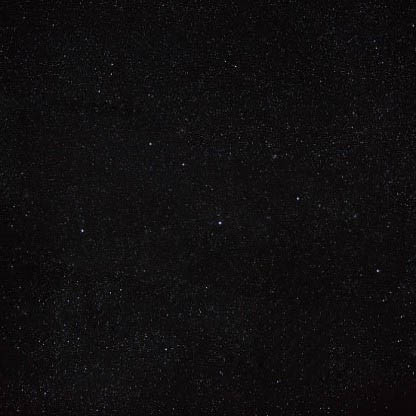Cassiopeia: (142, 137, 191, 174), (282, 185, 310, 218), (369, 253, 394, 285), (208, 213, 236, 237), (69, 222, 90, 243)
